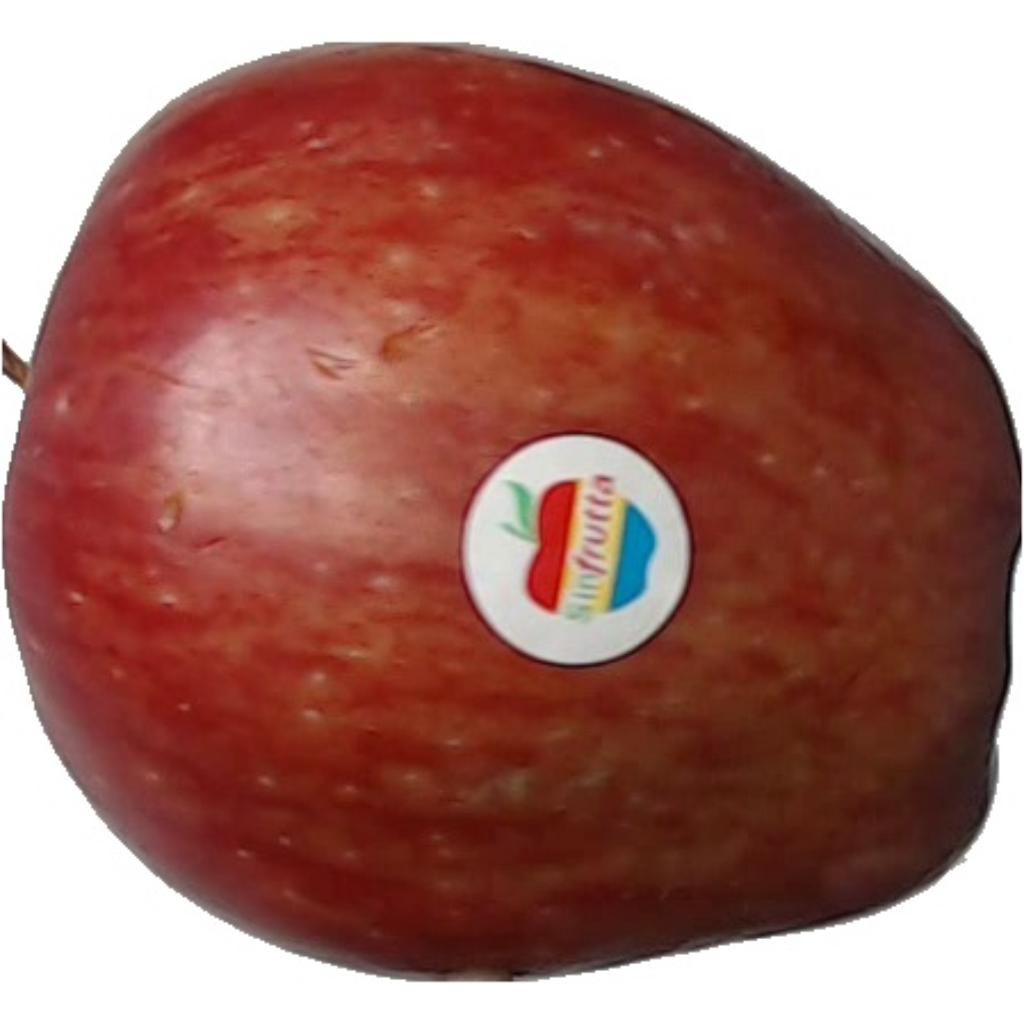apple: (4, 46, 1020, 973)
